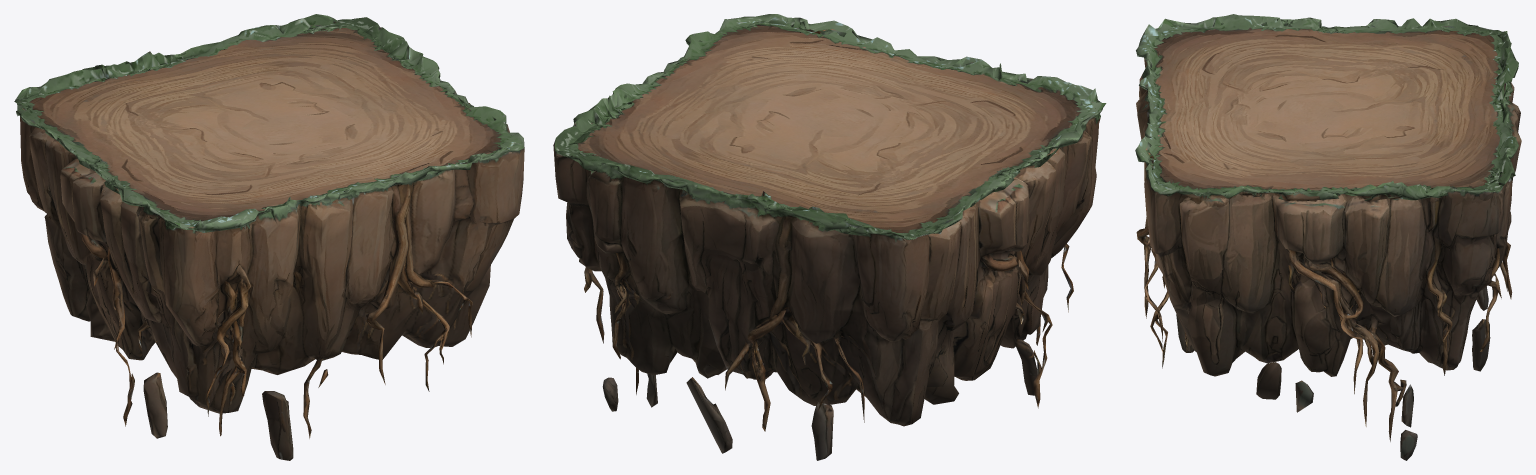
The model's file is IslandBase.glb.
3 renders of one model, left to right at view 1: azimuth 30°, elevation 25°; view 2: azimuth 150°, elevation 25°; view 3: azimuth 270°, elevation 25°, orthographic. The views are drawn at different scales.
Visible parts, largest first — view 1: texture_mapping; view 2: texture_mapping; view 3: texture_mapping.
Boxes of the visible parts, <box> form: texture_mapping: <box>14,14,524,460</box>; texture_mapping: <box>553,14,1106,460</box>; texture_mapping: <box>1135,14,1521,460</box>.
Bounding box in the file's own units: 40.45 × 29.59 × 36.26.
Materials: 1 (1 with a texture image).
